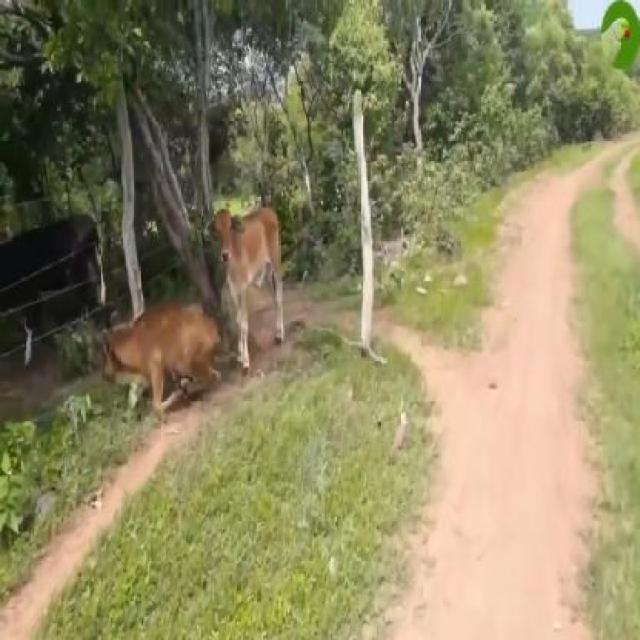Cow: (204, 208, 284, 378)
